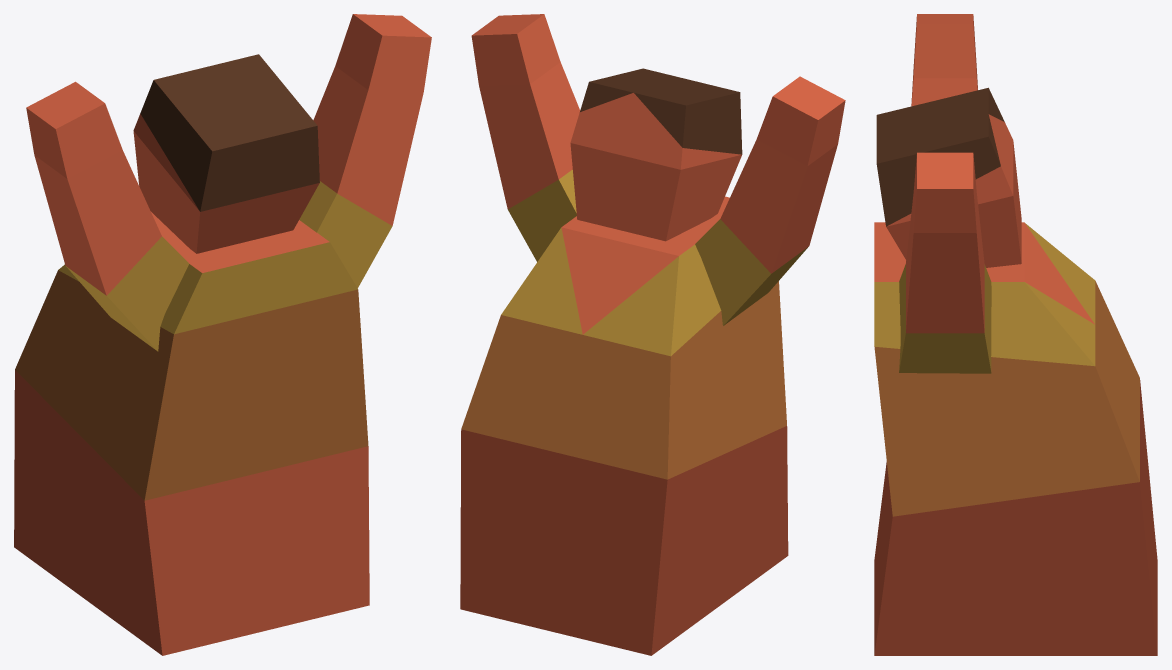
File: spectator_05.fbx
The picture shows the model from 3 angles, left to right: view 1: azimuth 30°, elevation 25°; view 2: azimuth 150°, elevation 25°; view 3: azimuth 270°, elevation 25°; orthographic projection. The views are drawn at different scales.
Parts seen in each view (by area): view 1: spectator_05; view 2: spectator_05; view 3: spectator_05.
Boxes of the visible parts, x1,y1,x2,y2 form: spectator_05: (14, 14, 431, 655); spectator_05: (460, 14, 845, 655); spectator_05: (874, 14, 1157, 655).
Bounding box in the file's own units: 184 × 254 × 125.
